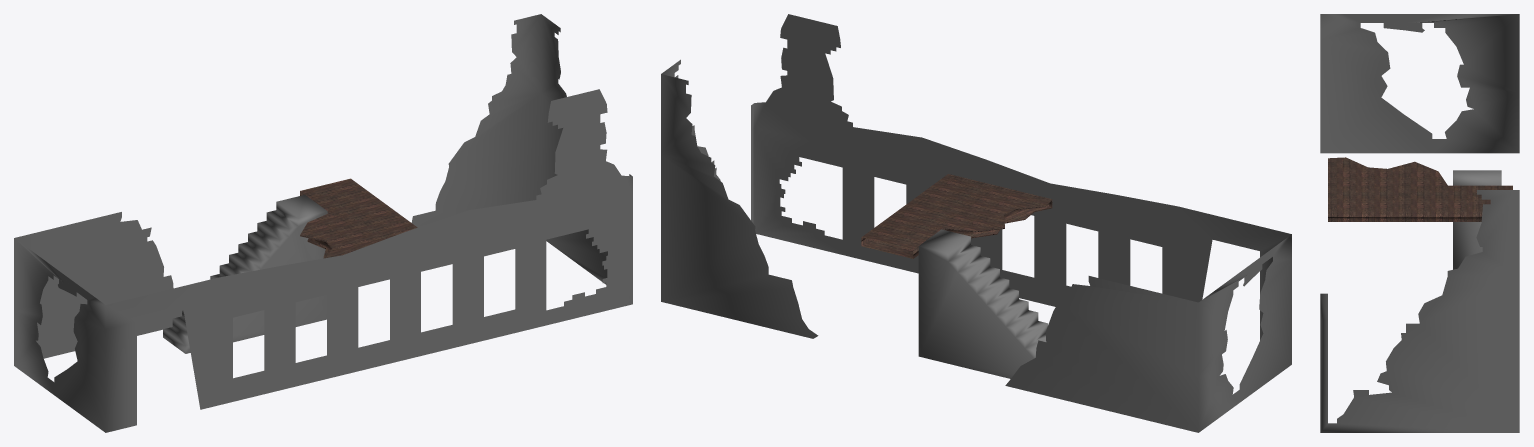
File: Ruins12_lod02.fbx
3 views of the same model, side by side, from view 1: azimuth 30°, elevation 25°; view 2: azimuth 150°, elevation 25°; view 3: azimuth 270°, elevation 25° (orthographic). The views are drawn at different scales.
Parts seen in each view (by area): view 1: Default_Layer; view 2: Default_Layer; view 3: Default_Layer.
Boxes of the visible parts, box(x1,y1,x2,y2) form: Default_Layer: box(14, 14, 632, 432); Default_Layer: box(661, 14, 1291, 432); Default_Layer: box(1320, 14, 1519, 432).
Bounding box in the file's own units: 1677 × 679 × 504.
